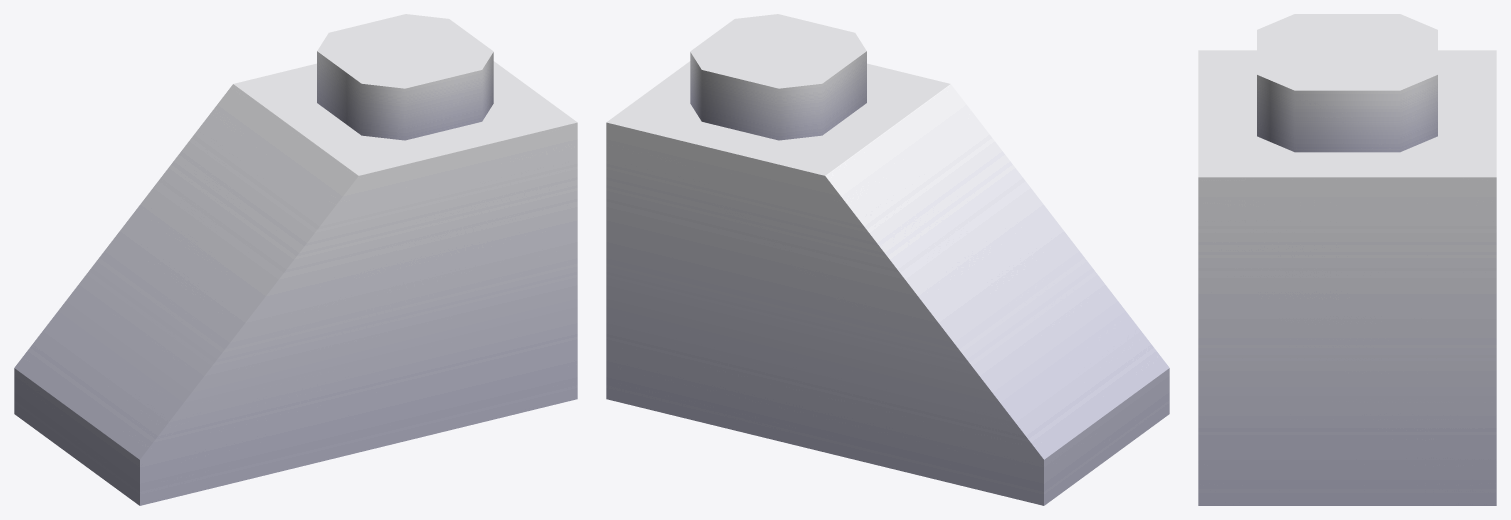
Rendered from bevel_lq_brick_slope_1x2.glb.
The picture shows the model from 3 angles, left to right: view 1: azimuth 30°, elevation 25°; view 2: azimuth 150°, elevation 25°; view 3: azimuth 270°, elevation 25°; orthographic projection. The views are drawn at different scales.
Parts seen in each view (by area): view 1: bevel-lq-brick-slope-1x2; view 2: bevel-lq-brick-slope-1x2; view 3: bevel-lq-brick-slope-1x2.
Part boxes in pixels (left/top/right/bottom): bevel-lq-brick-slope-1x2: left=14, top=14, right=577, bottom=505; bevel-lq-brick-slope-1x2: left=606, top=14, right=1169, bottom=505; bevel-lq-brick-slope-1x2: left=1198, top=14, right=1496, bottom=505.
Bounding box in the file's own units: 0.159 × 0.114 × 0.079.
1 material, 1 textured.
